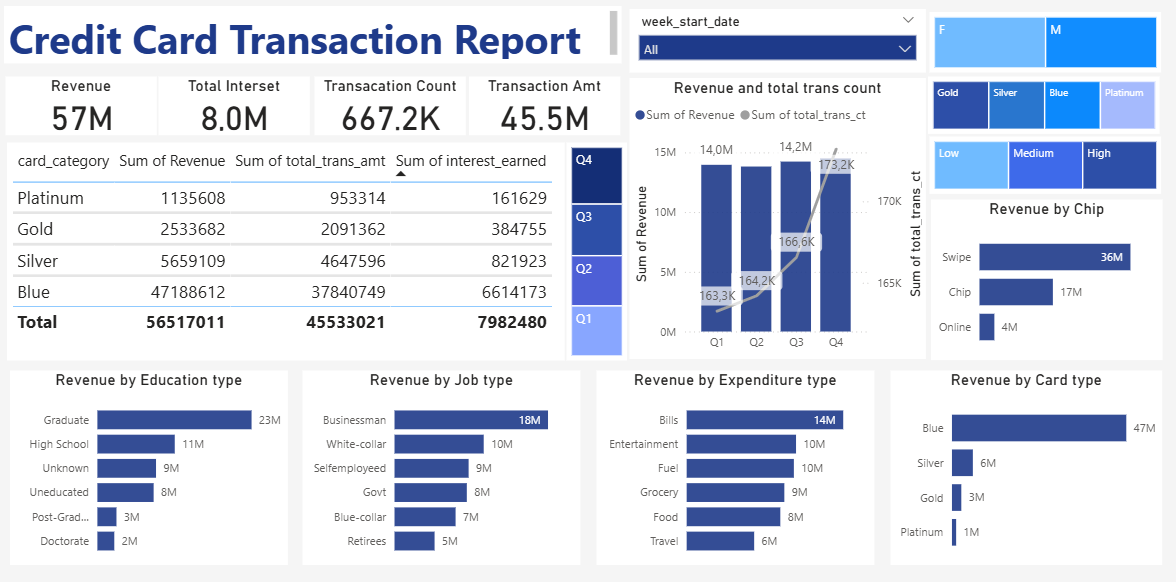

The page's visual inventory and layout, read from the dashboard file:
{"tool":"powerbi","page":{"name":"cc transaction","canvas":[1280,720],"ordinal":1},"visuals":[{"type":"textbox","box":[10,0,666.7,61.7],"z":0},{"type":"lineStackedColumnComboChart","title":"Revenue and total trans count","fields":{"Category":["public cc_detail.qtr"],"Y":["Sum(public cc_detail.Revenue)"],"Y2":["Sum(public cc_detail.total_trans_ct)"]},"box":[686.7,78.3,320,303.3],"z":1000},{"type":"barChart","title":"Revenue by Education type","fields":{"Category":["public cust_detail.education_level"],"Y":["Sum(public cc_detail.Revenue)"]},"box":[16.7,393.3,300,210],"z":2000},{"type":"barChart","title":"Revenue by Job type","fields":{"Category":["public cust_detail.customer_job"],"Y":["Sum(public cc_detail.Revenue)"]},"box":[333.3,393.3,300,210],"z":3000},{"type":"barChart","title":"Revenue by Expenditure type","fields":{"Category":["public cc_detail.exp_type"],"Y":["Sum(public cc_detail.Revenue)"]},"box":[650,393.3,300,210],"z":4000},{"type":"barChart","title":"Revenue by Card type","fields":{"Category":["public cc_detail.card_category"],"Y":["Sum(public cc_detail.Revenue)"]},"box":[968.3,393.3,293.3,210],"z":5000},{"type":"barChart","title":"Revenue by Chip","fields":{"Category":["public cc_detail.use_chip"],"Y":["Sum(public cc_detail.Revenue)"]},"box":[1011.7,208.3,250,173.3],"z":6000},{"type":"tableEx","fields":{"Values":["public cc_detail.card_category","Sum(public cc_detail.Revenue)","Sum(public cc_detail.total_trans_amt)","Sum(public cc_detail.interest_earned)"]},"box":[13.3,146.7,601.7,235],"z":7000},{"type":"card","title":"Revenue","fields":{"Values":["Sum(public cc_detail.Revenue)"]},"box":[11.7,76.7,163.3,63.3],"z":8000},{"type":"card","title":"Total Interset","fields":{"Values":["Sum(public cc_detail.interest_earned)"]},"box":[178.3,76.7,163.3,63.3],"z":9000},{"type":"card","title":"Transacation Count","fields":{"Values":["Sum(public cc_detail.total_trans_ct)"]},"box":[346.7,76.7,163.3,63],"z":10000},{"type":"card","title":"Transaction Amt","fields":{"Values":["Sum(public cc_detail.total_trans_amt)"]},"box":[513.3,76.7,163.3,63],"z":11000},{"type":"slicer","fields":{"Values":["public cc_detail.week_start_date"]},"box":[686.7,3.3,320,68.3],"z":12000},{"type":"treemap","fields":{"Group":["public cc_detail.qtr"],"Values":["Avg(public cc_detail.client_num)"]},"box":[618.3,146.7,65,235],"z":13000},{"type":"treemap","fields":{"Group":["public cc_detail.card_category"],"Values":["Avg(public cc_detail.client_num)"]},"box":[1008.3,76.7,250,61.7],"z":14000},{"type":"treemap","fields":{"Group":["public cust_detail.gender"],"Values":["Avg(public cc_detail.client_num)"]},"box":[1010,6.7,250,65],"z":15000},{"type":"treemap","fields":{"Group":["public cust_detail.IncomeGroup"],"Values":["Avg(public cc_detail.client_num)"]},"box":[1010,141.7,250,61.7],"z":16000}]}

Visuals, with their boxes on the page's 1280x720 design canvas (x1, y1, x2, y2). These are canvas units, not pixel positions in the 1176x582 screenshot, which may show the page scaled, cropped or inside an application window:
textbox: [10, 0, 677, 62]
"Revenue and total trans count" lineStackedColumnComboChart: [687, 78, 1007, 382]
"Revenue by Education type" barChart: [17, 393, 317, 603]
"Revenue by Job type" barChart: [333, 393, 633, 603]
"Revenue by Expenditure type" barChart: [650, 393, 950, 603]
"Revenue by Card type" barChart: [968, 393, 1262, 603]
"Revenue by Chip" barChart: [1012, 208, 1262, 382]
tableEx - public cc_detail.card_category x Sum(public cc_detail.Revenue): [13, 147, 615, 382]
"Revenue" card: [12, 77, 175, 140]
"Total Interset" card: [178, 77, 342, 140]
"Transacation Count" card: [347, 77, 510, 140]
"Transaction Amt" card: [513, 77, 677, 140]
slicer - public cc_detail.week_start_date: [687, 3, 1007, 72]
treemap - public cc_detail.qtr x Avg(public cc_detail.client_num): [618, 147, 683, 382]
treemap - public cc_detail.card_category x Avg(public cc_detail.client_num): [1008, 77, 1258, 138]
treemap - public cust_detail.gender x Avg(public cc_detail.client_num): [1010, 7, 1260, 72]
treemap - public cust_detail.IncomeGroup x Avg(public cc_detail.client_num): [1010, 142, 1260, 203]
